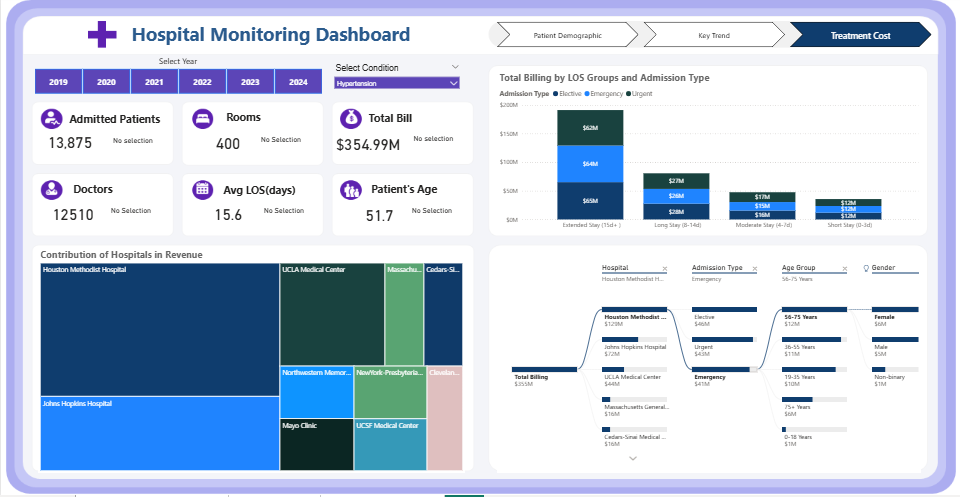

Layout of this report page (visuals, bound fields, positions):
{"tool":"powerbi","page":{"name":"Treatment Cost","canvas":[1920,1010],"ordinal":2},"visuals":[{"type":"card","fields":{"Values":["_DAXmeasure.Admitted patients"]},"box":[68.8,252.5,140,83.8],"z":0},{"type":"textbox","box":[114,228,226,40],"z":1000},{"type":"textbox","box":[256,46,798,66],"z":2000},{"type":"slicer","fields":{"Values":["Dim_Condition.Medical Condition"]},"box":[656,130,272,70],"z":3000},{"type":"card","fields":{"Values":["_DAXmeasure.Adm YoY"]},"box":[188.3,241.7,151.7,98.3],"z":4000},{"type":"card","fields":{"Values":["_DAXmeasure.Rooms"]},"box":[383.8,254.4,140,83.8],"z":5000},{"type":"textbox","box":[421.5,224.2,226,40],"z":6000},{"type":"card","fields":{"Values":["_DAXmeasure.Rooms YoY"]},"box":[484.6,239.8,151.7,98.3],"z":7000},{"type":"card","fields":{"Values":["_DAXmeasure.Total Billing"]},"box":[663.8,256.2,140,83.8],"z":8000},{"type":"textbox","box":[729,226.1,226,40],"z":9000},{"type":"card","fields":{"Values":["_DAXmeasure.Bill YoY"]},"box":[773.8,237.5,181.2,98.8],"z":10000},{"type":"card","fields":{"Values":["_DAXmeasure.Avg LOS"]},"box":[383.8,395,140,83.8],"z":11000},{"type":"textbox","box":[415.2,369.2,226,40],"z":12000},{"type":"card","fields":{"Values":["_DAXmeasure.Avg LOS YoY"]},"box":[489.6,382.9,151.7,98.3],"z":13000},{"type":"card","fields":{"Values":["_DAXmeasure.Doctors"]},"box":[73.8,395,140,83.8],"z":14000},{"type":"textbox","box":[110.2,368.6,226,40],"z":15000},{"type":"card","fields":{"Values":["_DAXmeasure.Doctors YoY"]},"box":[184.6,381.7,151.7,98.3],"z":16000},{"type":"card","fields":{"Values":["_DAXmeasure.Avg Age"]},"box":[685,397.5,140,83.8],"z":17000},{"type":"textbox","box":[711.5,368,226,40],"z":18000},{"type":"card","fields":{"Values":["_DAXmeasure.Avg Age YoY"]},"box":[785.8,381.7,151.7,98.3],"z":19000},{"type":"columnChart","title":"Total Billing by LOS Groups and Admission Type","fields":{"Category":["HealthStatData.LOS Groups (Modified)"],"Y":["_DAXmeasure.Total Billing"],"Series":["HealthStatData.Admission Type"]},"box":[991.8,151.5,848.4,327.2],"z":20000},{"type":"decompositionTreeVisual","fields":{"Analyze":["_DAXmeasure.Total Billing"],"ExplainBy":["HealthStatData.Hospital","HealthStatData.Admission Type","HealthStatData.Age Group","HealthStatData.Gender"]},"box":[992,520,848,436],"z":21000},{"type":"pageNavigator","box":[992,54,870,50],"z":22000},{"type":"treemap","title":"Contribution of Hospitals in Revenue","fields":{"Group":["HealthStatData.Hospital"],"Values":["_DAXmeasure.Total Billing"]},"box":[74,506,854,450],"z":23000},{"type":"slicer","title":"Select Year","fields":{"Values":["Dim_Date.Year"]},"box":[42,120,624,84],"z":24000}]}

Visuals, with their boxes in screenshot pixels (x1, y1, x2, y2), scaled from the page's 1920x1010 canvas onto the 960x497 screenshot:
card - _DAXmeasure.Admitted patients: <bbox>34, 124, 104, 165</bbox>
textbox: <bbox>57, 112, 170, 132</bbox>
textbox: <bbox>128, 23, 527, 55</bbox>
slicer - Dim_Condition.Medical Condition: <bbox>328, 64, 464, 98</bbox>
card - _DAXmeasure.Adm YoY: <bbox>94, 119, 170, 167</bbox>
card - _DAXmeasure.Rooms: <bbox>192, 125, 262, 166</bbox>
textbox: <bbox>211, 110, 324, 130</bbox>
card - _DAXmeasure.Rooms YoY: <bbox>242, 118, 318, 166</bbox>
card - _DAXmeasure.Total Billing: <bbox>332, 126, 402, 167</bbox>
textbox: <bbox>364, 111, 478, 131</bbox>
card - _DAXmeasure.Bill YoY: <bbox>387, 117, 478, 165</bbox>
card - _DAXmeasure.Avg LOS: <bbox>192, 194, 262, 236</bbox>
textbox: <bbox>208, 182, 321, 201</bbox>
card - _DAXmeasure.Avg LOS YoY: <bbox>245, 188, 321, 237</bbox>
card - _DAXmeasure.Doctors: <bbox>37, 194, 107, 236</bbox>
textbox: <bbox>55, 181, 168, 201</bbox>
card - _DAXmeasure.Doctors YoY: <bbox>92, 188, 168, 236</bbox>
card - _DAXmeasure.Avg Age: <bbox>342, 196, 412, 237</bbox>
textbox: <bbox>356, 181, 469, 201</bbox>
card - _DAXmeasure.Avg Age YoY: <bbox>393, 188, 469, 236</bbox>
"Total Billing by LOS Groups and Admission Type" columnChart: <bbox>496, 75, 920, 236</bbox>
decompositionTreeVisual - _DAXmeasure.Total Billing x HealthStatData.Hospital: <bbox>496, 256, 920, 470</bbox>
pageNavigator: <bbox>496, 27, 931, 51</bbox>
"Contribution of Hospitals in Revenue" treemap: <bbox>37, 249, 464, 470</bbox>
"Select Year" slicer: <bbox>21, 59, 333, 100</bbox>
